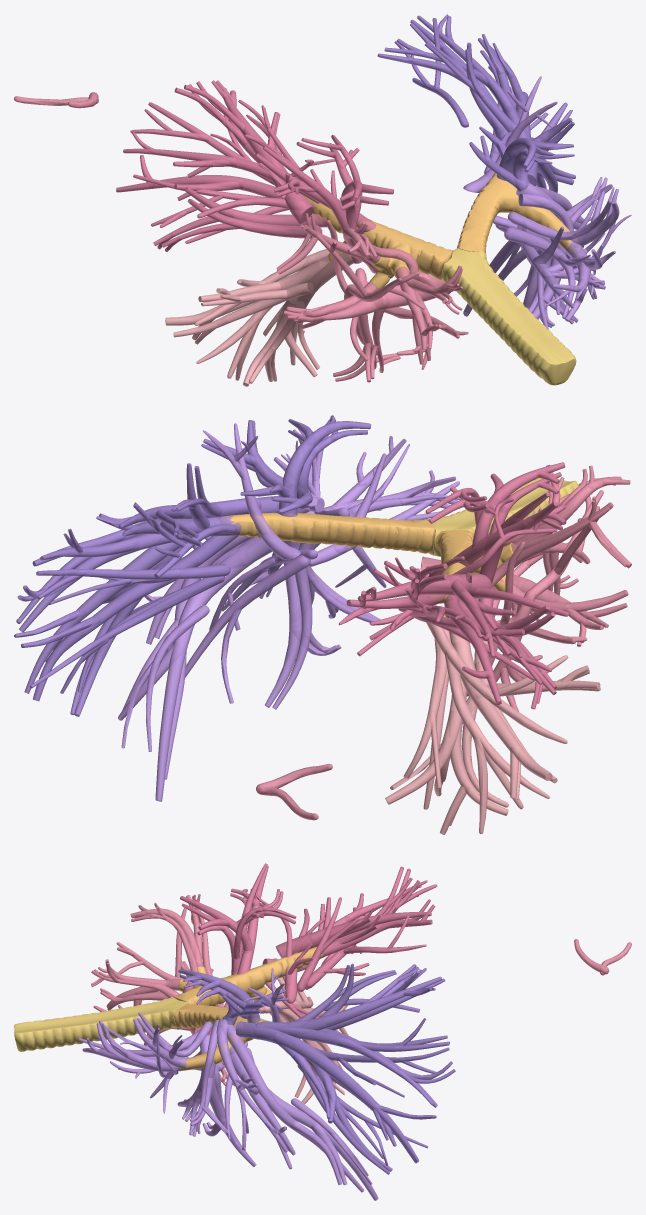
File: bodyparts-respiratory.glb
The picture shows the model from 3 angles, top to bottom: view 1: azimuth 30°, elevation 25°; view 2: azimuth 150°, elevation 25°; view 3: azimuth 270°, elevation 25°; orthographic projection. The views are drawn at different scales.
Visible parts, largest first — view 1: right_lower_lobe, left_upper_lobe, right_upper_lobe, left_lower_lobe, right_middle_lobe, trachea, right_main_bronchus, left_main_bronchus; view 2: left_lower_lobe, left_upper_lobe, right_lower_lobe, right_middle_lobe, right_upper_lobe, left_main_bronchus, right_main_bronchus, trachea; view 3: left_lower_lobe, left_upper_lobe, right_lower_lobe, right_upper_lobe, trachea, right_main_bronchus, left_main_bronchus, right_middle_lobe.
Part boxes in pixels (x1,y1,x2,y2): right_lower_lobe: [116, 80, 393, 263]; left_upper_lobe: [463, 76, 631, 329]; right_upper_lobe: [14, 92, 468, 382]; left_lower_lobe: [377, 14, 575, 192]; right_middle_lobe: [165, 249, 357, 386]; trachea: [443, 248, 576, 385]; right_main_bronchus: [305, 196, 452, 289]; left_main_bronchus: [457, 164, 579, 254]; left_lower_lobe: [14, 415, 371, 716]; left_upper_lobe: [118, 419, 461, 801]; right_lower_lobe: [338, 462, 568, 709]; right_middle_lobe: [385, 598, 600, 834]; right_upper_lobe: [256, 464, 631, 820]; left_main_bronchus: [220, 512, 435, 555]; right_main_bronchus: [430, 529, 515, 633]; trachea: [426, 478, 578, 556]; left_lower_lobe: [178, 963, 455, 1174]; left_upper_lobe: [78, 968, 378, 1200]; right_lower_lobe: [180, 863, 437, 1018]; right_upper_lobe: [91, 894, 631, 1086]; trachea: [14, 996, 189, 1051]; right_main_bronchus: [173, 947, 323, 1006]; left_main_bronchus: [174, 1003, 270, 1071]; right_middle_lobe: [252, 958, 348, 1104].
Bounding box in the file's own units: 242 × 158 × 381.
